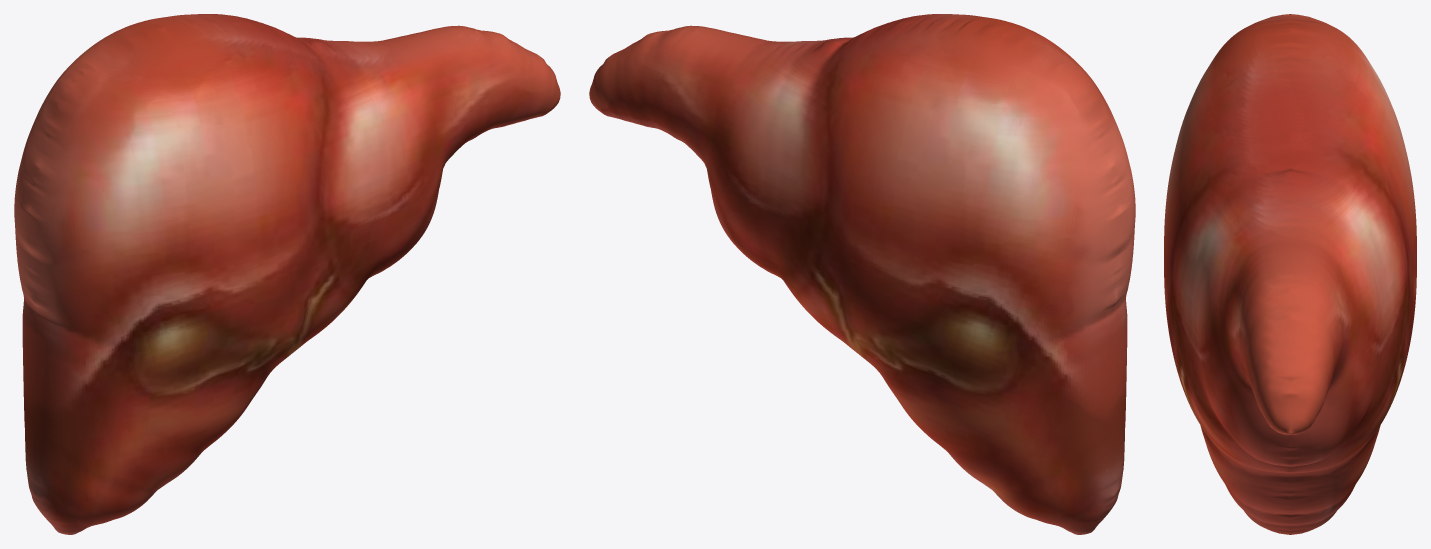
The model's file is pancreas.glb.
3 views of the same model, side by side, from view 1: azimuth 30°, elevation 25°; view 2: azimuth 150°, elevation 25°; view 3: azimuth 270°, elevation 25° (orthographic). The views are drawn at different scales.
Visible parts, largest first — view 1: Object_5; view 2: Object_5; view 3: Object_5.
Boxes of the visible parts, x1,y1,x2,y2 form: Object_5: (14,14,560,534); Object_5: (589,14,1135,534); Object_5: (1164,14,1416,534).
Bounding box in the file's own units: 0.2291 × 0.1991 × 0.0846.
1 material, 1 textured.
